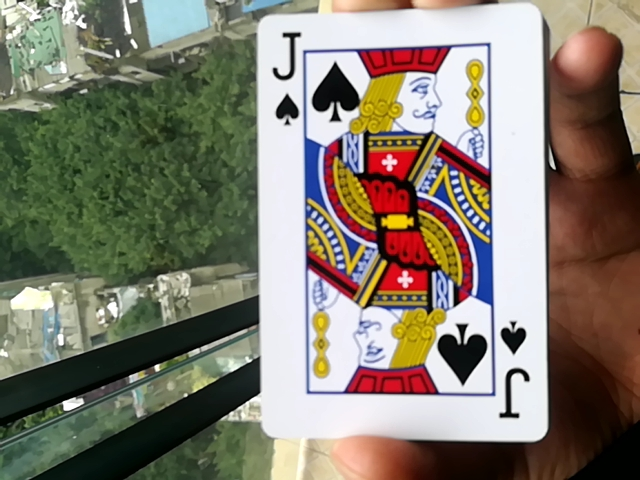ht j: (246, 1, 543, 439)
